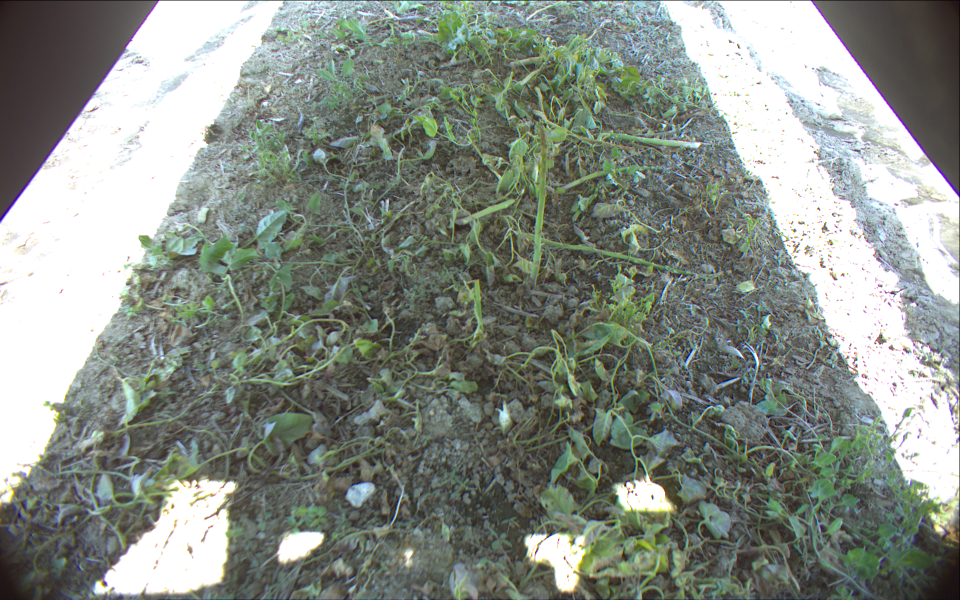aspa: (515, 230, 721, 280), (553, 164, 679, 194), (529, 124, 547, 289), (599, 129, 700, 148), (458, 198, 515, 224), (525, 1, 586, 21)
